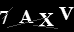7: (1, 10, 9, 25)
A: (18, 9, 34, 24)
V: (58, 6, 74, 21)
X: (37, 12, 55, 27)
